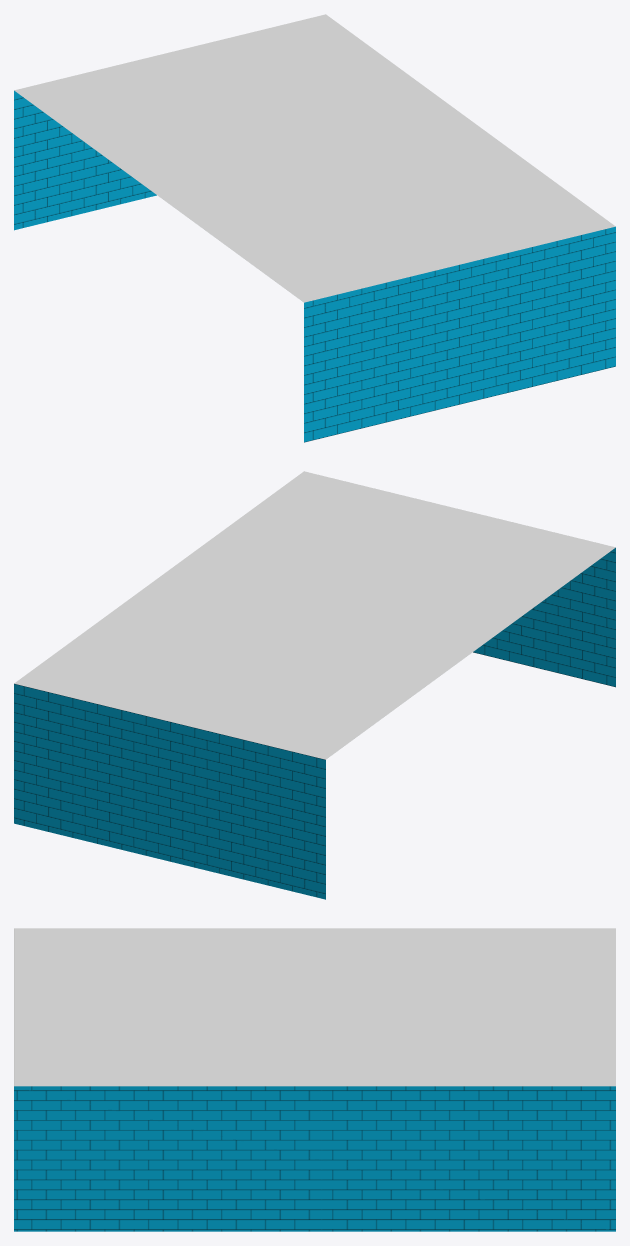
File: pool_wall.fbx
3 views of the same model, one above another, from view 1: azimuth 30°, elevation 25°; view 2: azimuth 150°, elevation 25°; view 3: azimuth 270°, elevation 25° (orthographic). The views are drawn at different scales.
Parts seen in each view (by area): view 1: Plane.001; view 2: Plane.001; view 3: Plane.001.
Boxes of the visible parts, <box> form: Plane.001: <box>14,14,615,442</box>; Plane.001: <box>14,471,615,899</box>; Plane.001: <box>14,928,615,1231</box>.
Bounding box in the file's own units: 15902 × 6817 × 25610.
